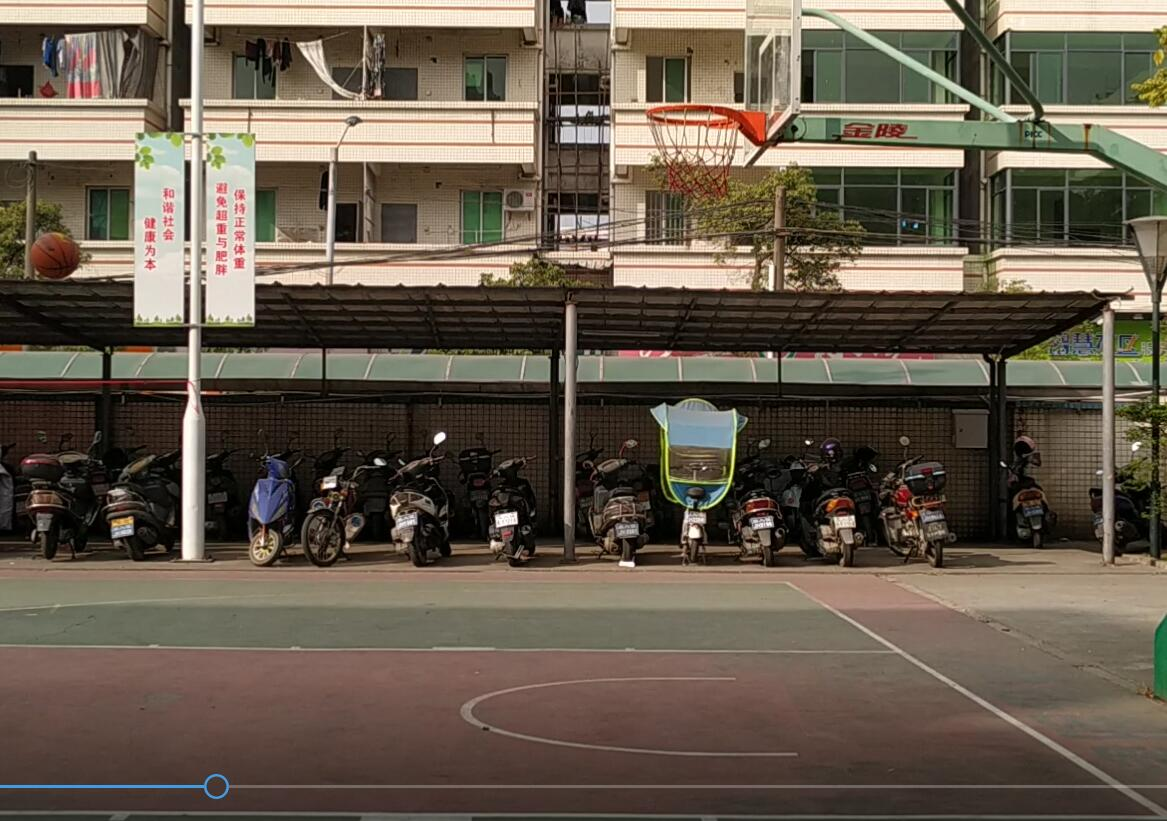basketball: (29, 228, 84, 284)
